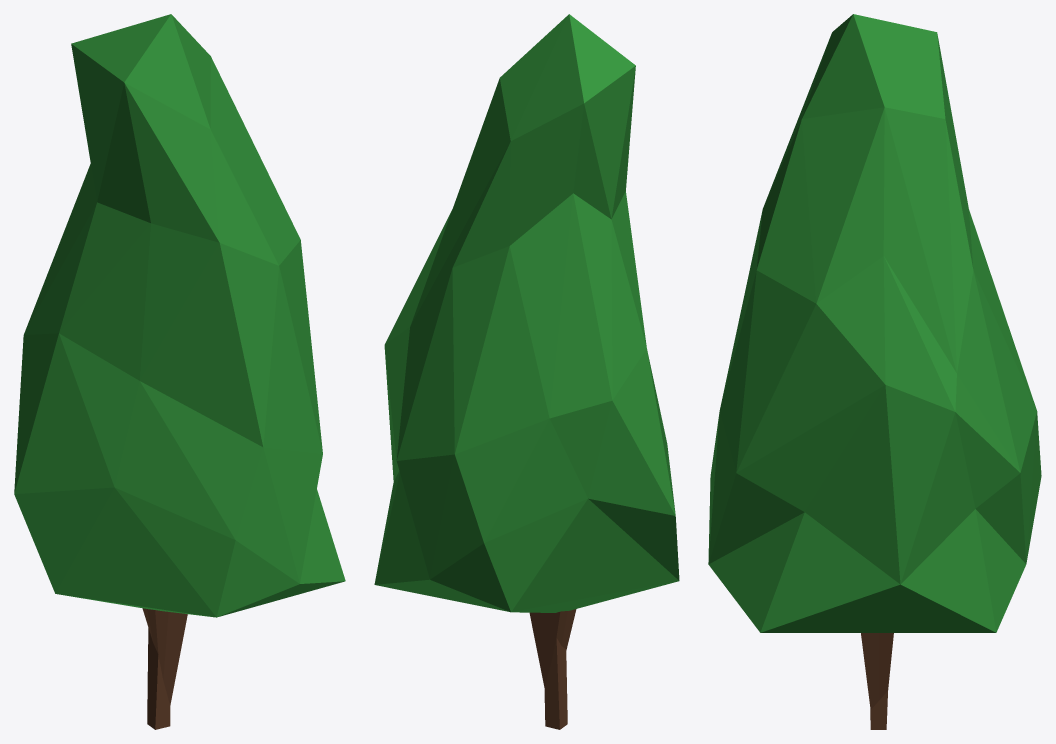
Rendered from Tree_20_Green.fbx.
3 views of the same model, side by side, from view 1: azimuth 30°, elevation 25°; view 2: azimuth 150°, elevation 25°; view 3: azimuth 270°, elevation 25° (orthographic). The views are drawn at different scales.
Parts seen in each view (by area): view 1: Tree_20_Green_Part_1, Tree_20_Green_Part_2; view 2: Tree_20_Green_Part_1, Tree_20_Green_Part_2; view 3: Tree_20_Green_Part_1, Tree_20_Green_Part_2.
Boxes of the visible parts, x1,y1,x2,y2 form: Tree_20_Green_Part_1: (14,14,345,617); Tree_20_Green_Part_2: (142,608,187,729); Tree_20_Green_Part_1: (374,14,679,612); Tree_20_Green_Part_2: (529,609,576,729); Tree_20_Green_Part_1: (708,14,1041,632); Tree_20_Green_Part_2: (861,633,893,729).
Bounding box in the file's own units: 332 × 789 × 334.
